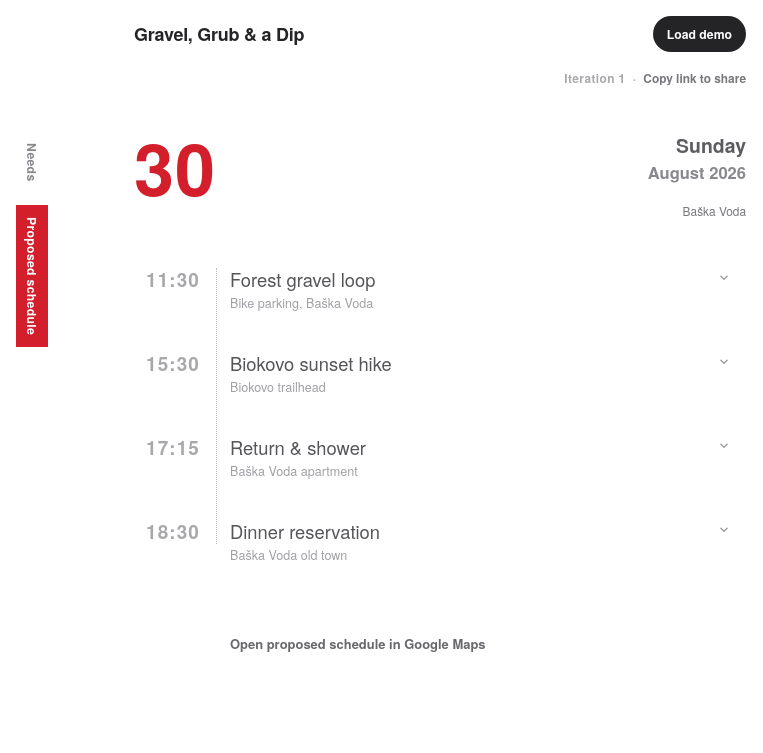
Test: daymaker.fun app › keeps Proposed schedule read-only and independently expands whole rows
Check: the text "Bike parking, Baška Voda" is shown, box [230,294,373,312]
Check: the text "Biokovo trailhead" is shown, box [230,378,326,396]
Click the text "11:30".
click(173, 279)  # box [146,266,200,292]
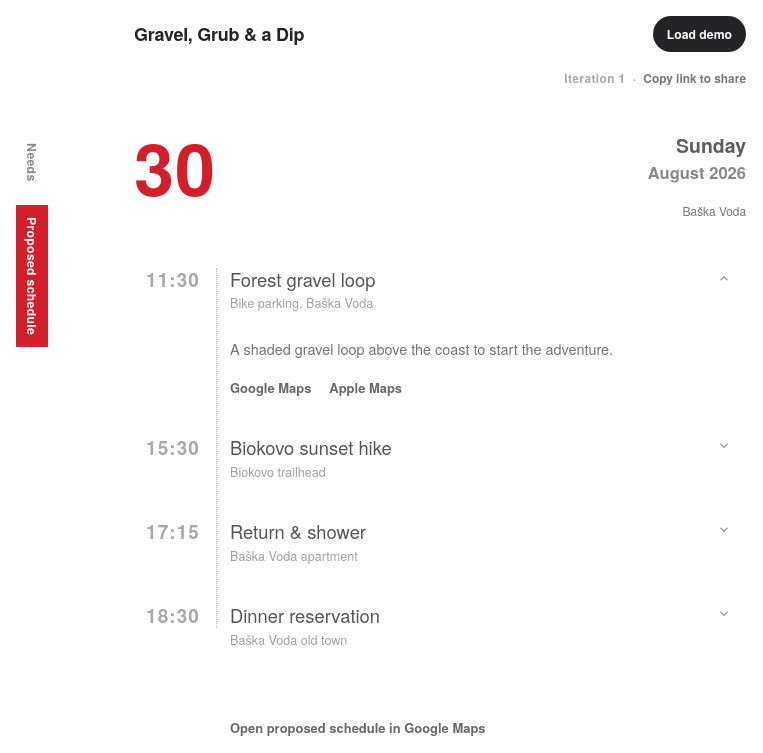
Check: the text "A shaded gravel loop above the coast to start the adventure." is shown, box [230,338,670,360]
Click the text "Biokovo sunset hike".
click(311, 447)  # box [230,434,392,460]
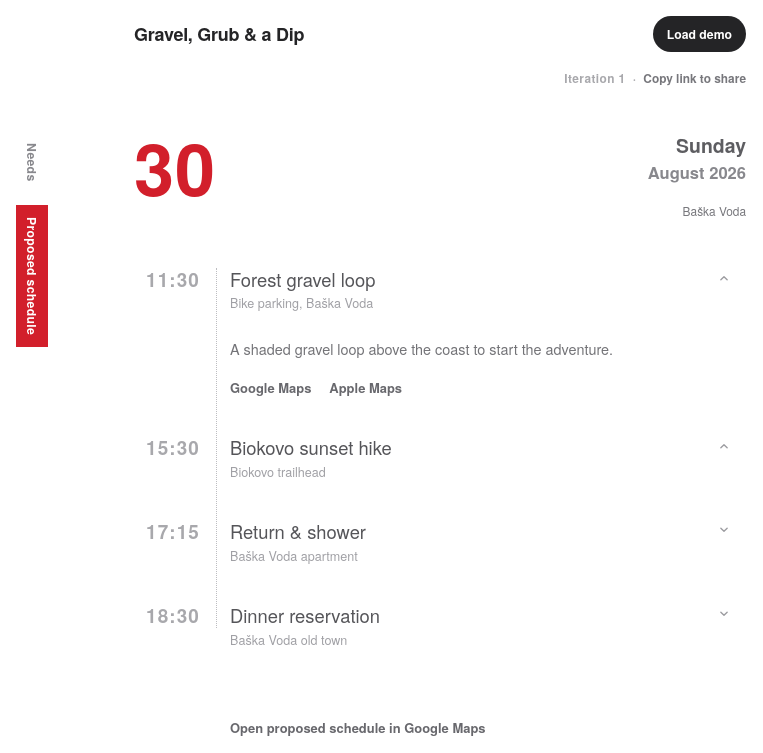
Click the text "Bike parking, Baška Voda".
click(302, 303)  # box [230,294,373,312]
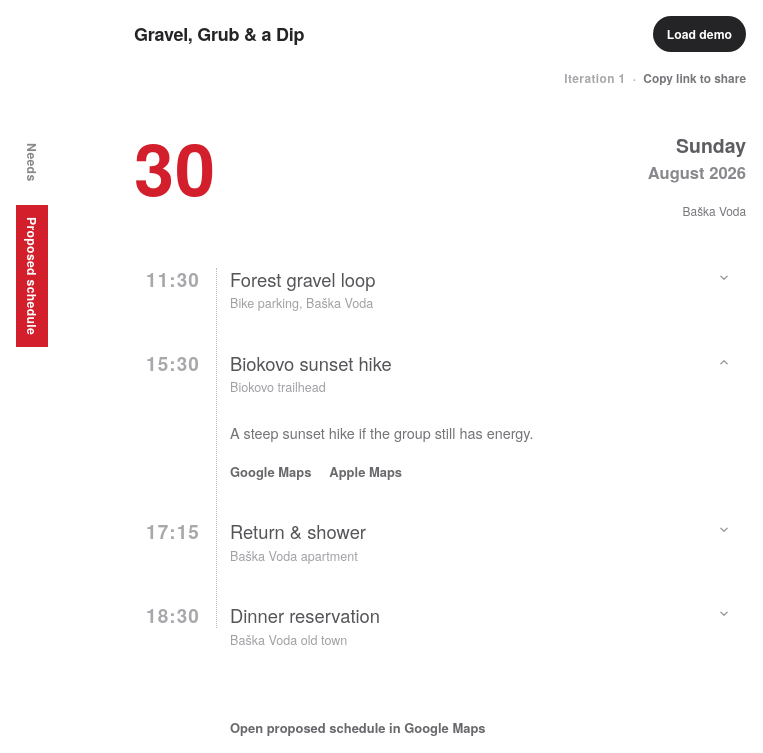
Check: the text "A steep sunset hike if the group still has energy." is shown, box [230,422,534,442]
